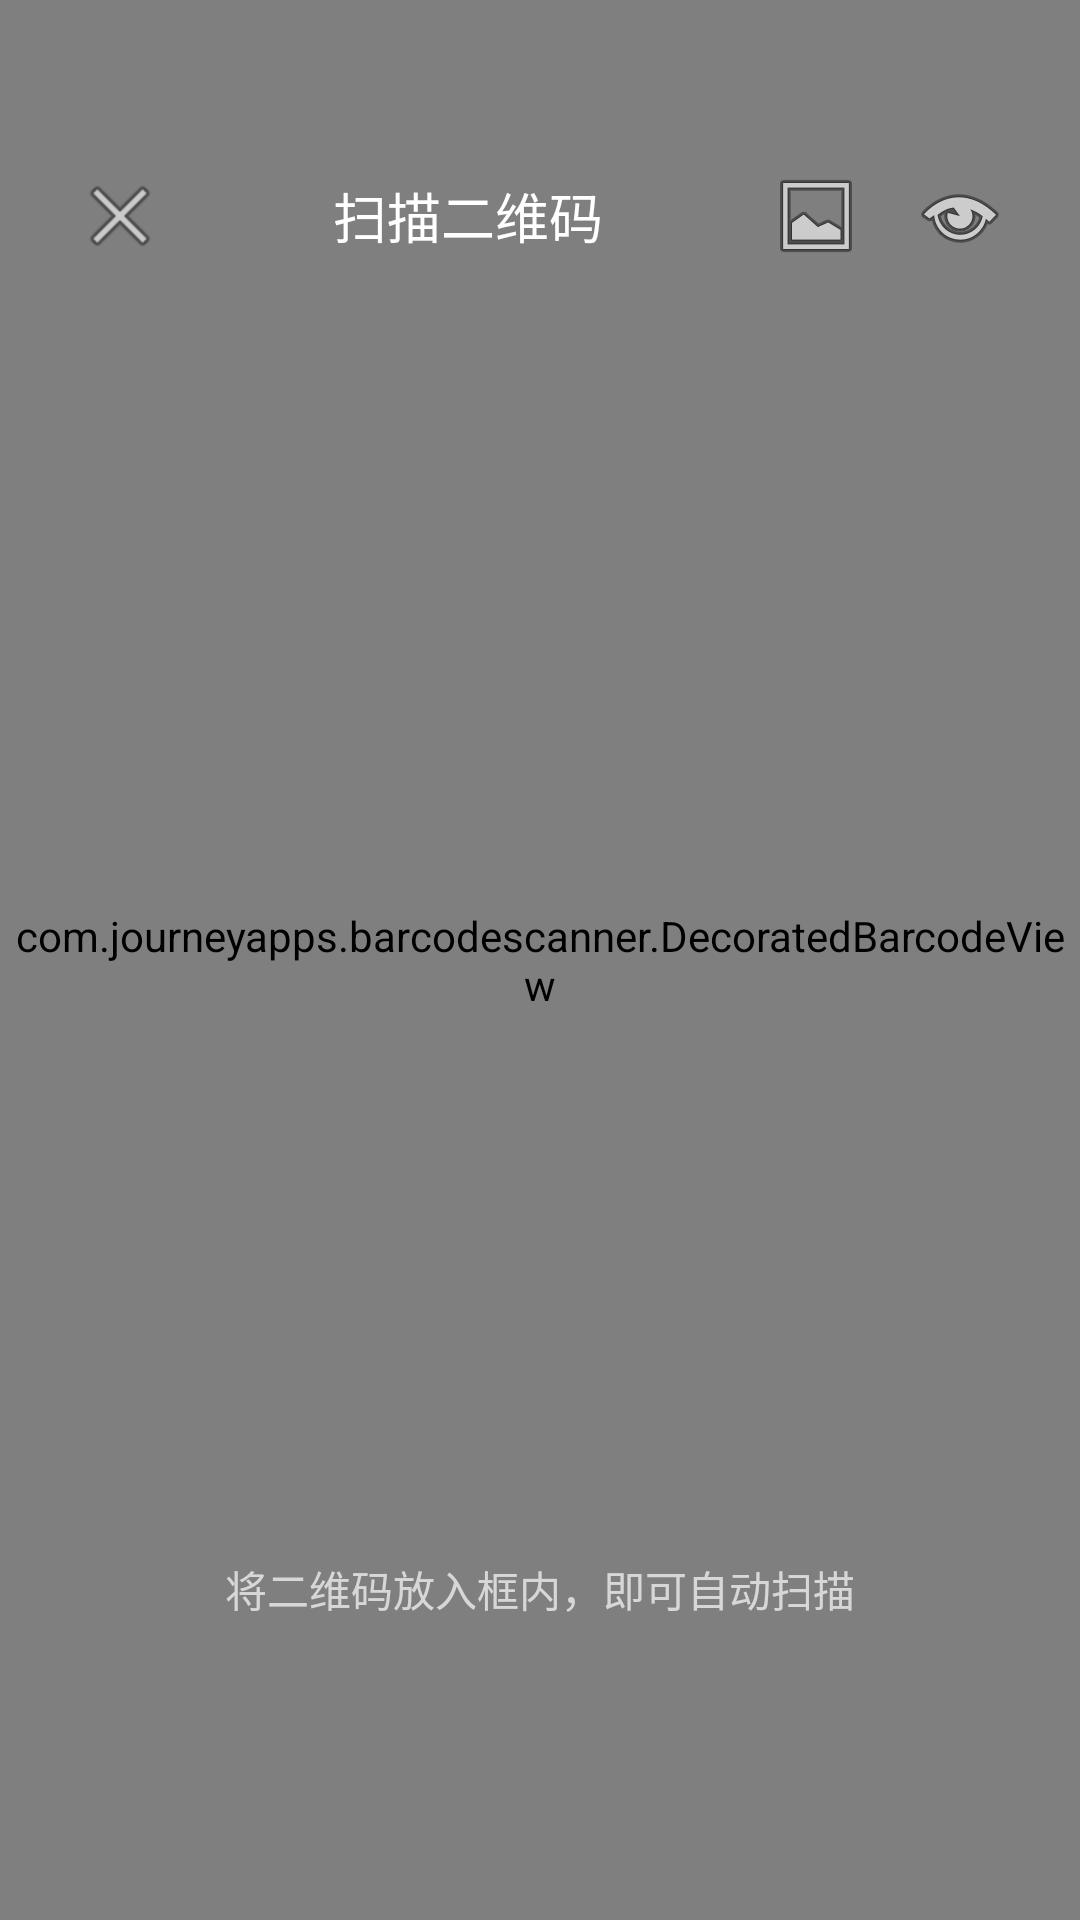

Screen size 1080px x 1920px. Icon name, then its box in pixels as (x1, y1, x2, y2):
相册: (780, 180, 852, 252)
返回: (90, 186, 150, 246)
